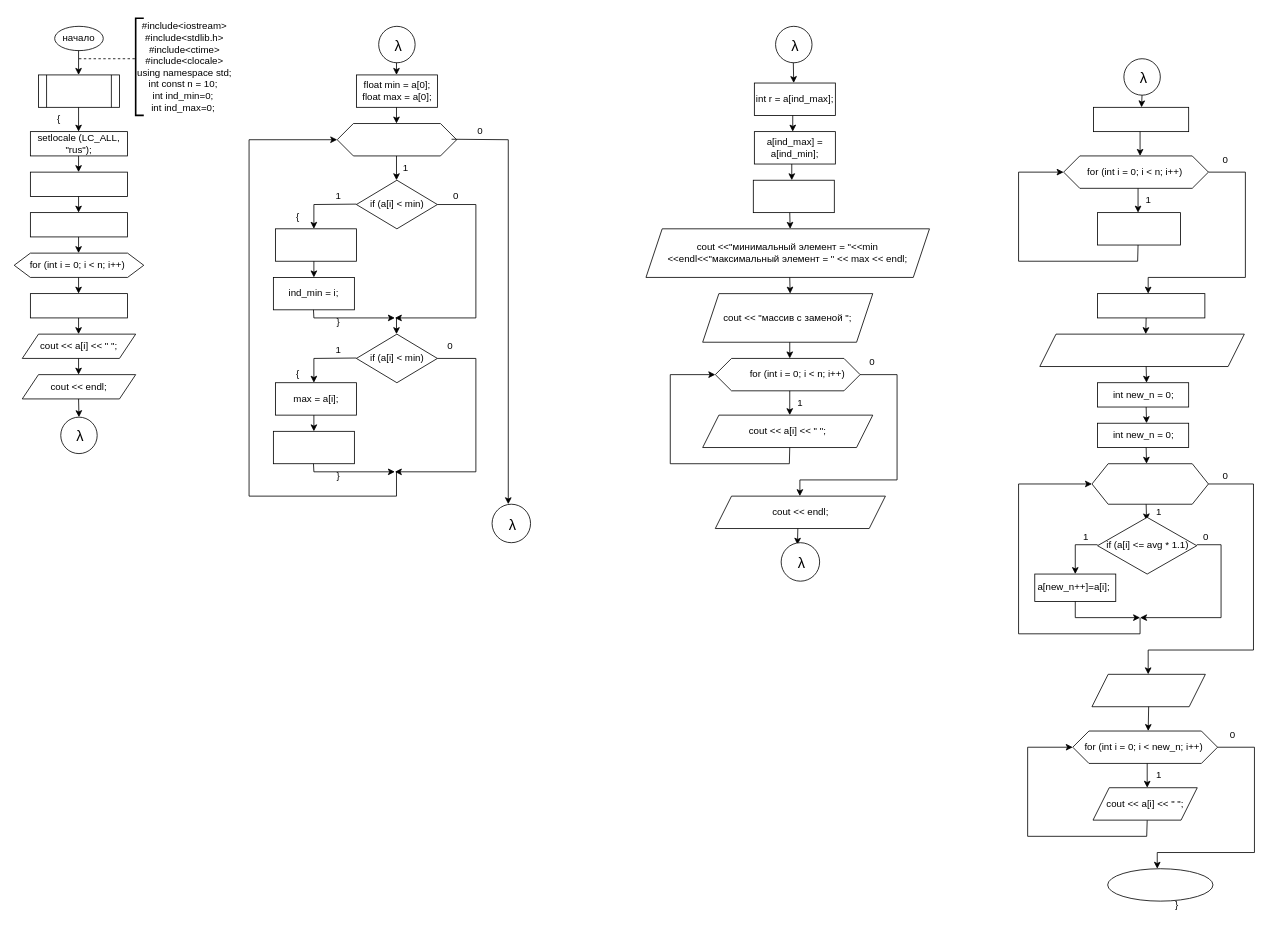
This 1276x931 diagram has some shape labels left out. The shapes that lost their labels are listed below. From the top down, each one's centre as x and y in pixels, then its label:
point (78, 90): int main()
point (396, 139): for (int i = 1; i < n; i++)
point (1141, 119): double sum = 0;
point (79, 183): srand(time(0));
point (793, 196): a[ind_min] = r;
point (79, 224): int a[n];
point (315, 244): min = a[i];
point (1139, 228): sum += a[i];
point (79, 305): a[i] = rand() % 100;
point (1151, 305): double avg = sum / n;
point (1141, 350): cout << "среднее значение массива = " <<avg<<endl;
point (313, 447): ind_max = i;
point (1149, 483): for (int i=0; i < n; i++)
point (1148, 690): cout << "Итоговый массив ";
point (1160, 884): return 0;
